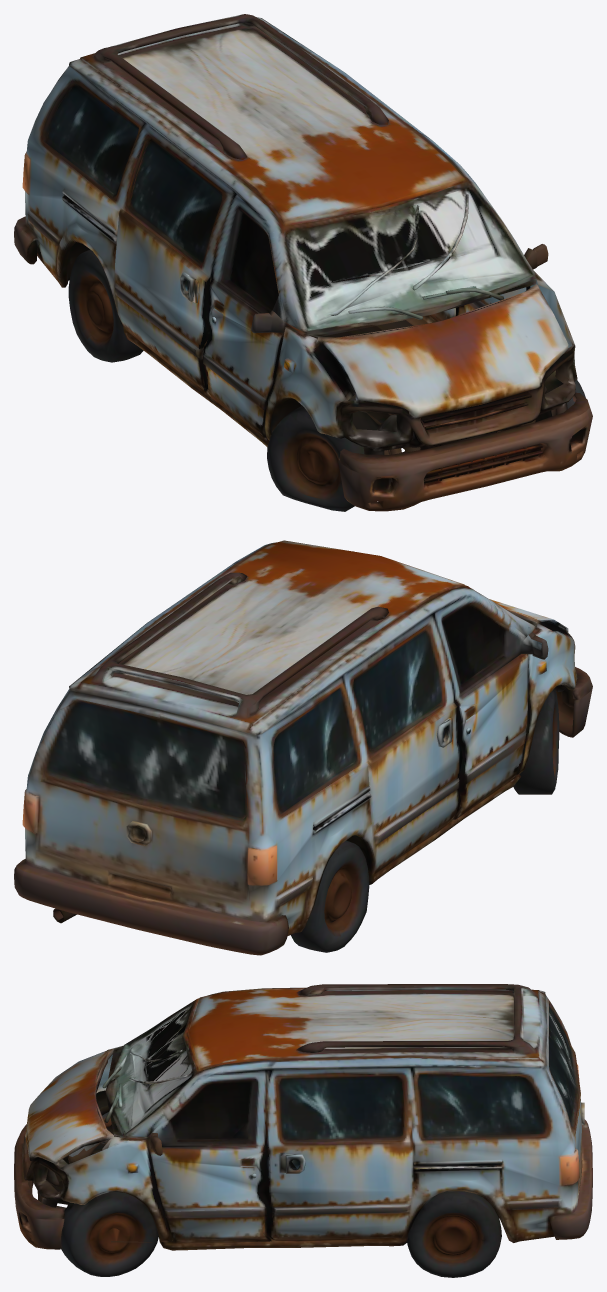
File: crashed_rusty_minivan_f872ff37_v3.glb
The picture shows the model from 3 angles, top to bottom: view 1: azimuth 30°, elevation 25°; view 2: azimuth 150°, elevation 25°; view 3: azimuth 270°, elevation 25°; orthographic projection. The views are drawn at different scales.
Visible parts, largest first — view 1: material; view 2: material; view 3: material.
Part boxes in pixels (left/top/right/bottom): material: left=14, top=14, right=592, bottom=511; material: left=14, top=540, right=592, bottom=955; material: left=14, top=984, right=592, bottom=1277.
Size of the model in its own units: 0.9119 by 0.7948 by 1.9.
1 material, 1 textured.
